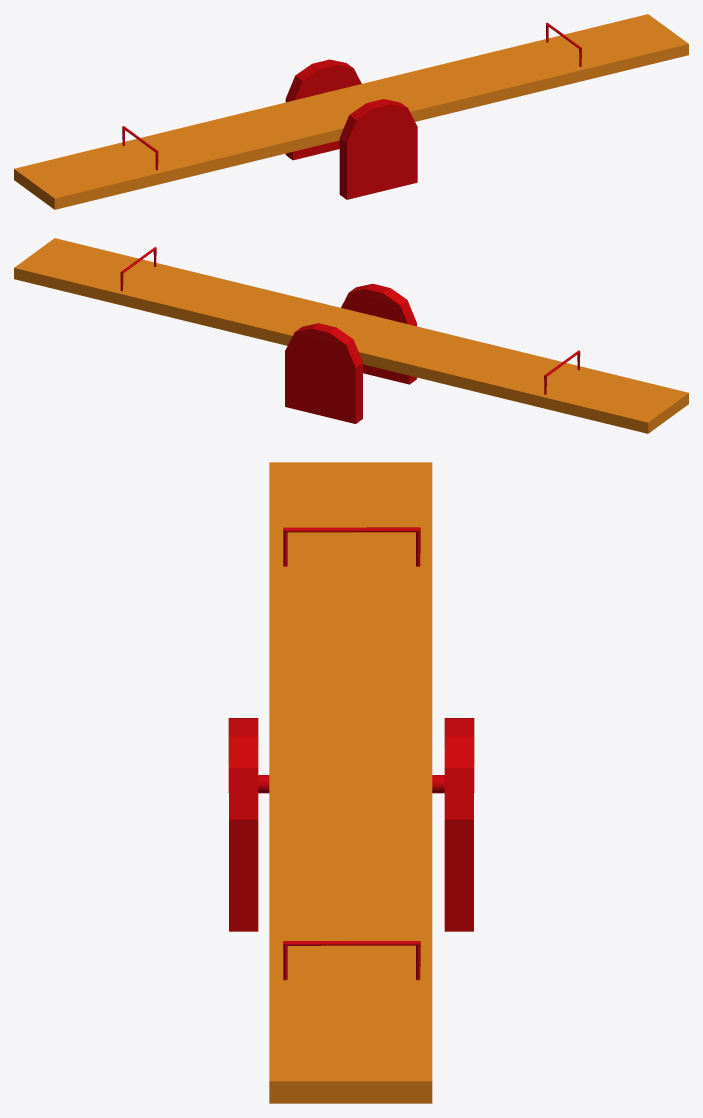
Rendered from balanza.fbx.
3 renders of one model, top to bottom at view 1: azimuth 30°, elevation 25°; view 2: azimuth 150°, elevation 25°; view 3: azimuth 270°, elevation 25°, orthographic. The views are drawn at different scales.
Parts seen in each view (by area): view 1: Balancin, Cube; view 2: Balancin, Cube; view 3: Balancin, Cube.
Part boxes in pixels (x1,y1,x2,y2): Balancin: [14, 14, 688, 209]; Cube: [285, 59, 417, 199]; Balancin: [14, 238, 688, 433]; Cube: [285, 283, 416, 423]; Balancin: [258, 462, 444, 1103]; Cube: [228, 718, 474, 931].
Bounding box in the file's own units: 1796 × 230 × 301.
